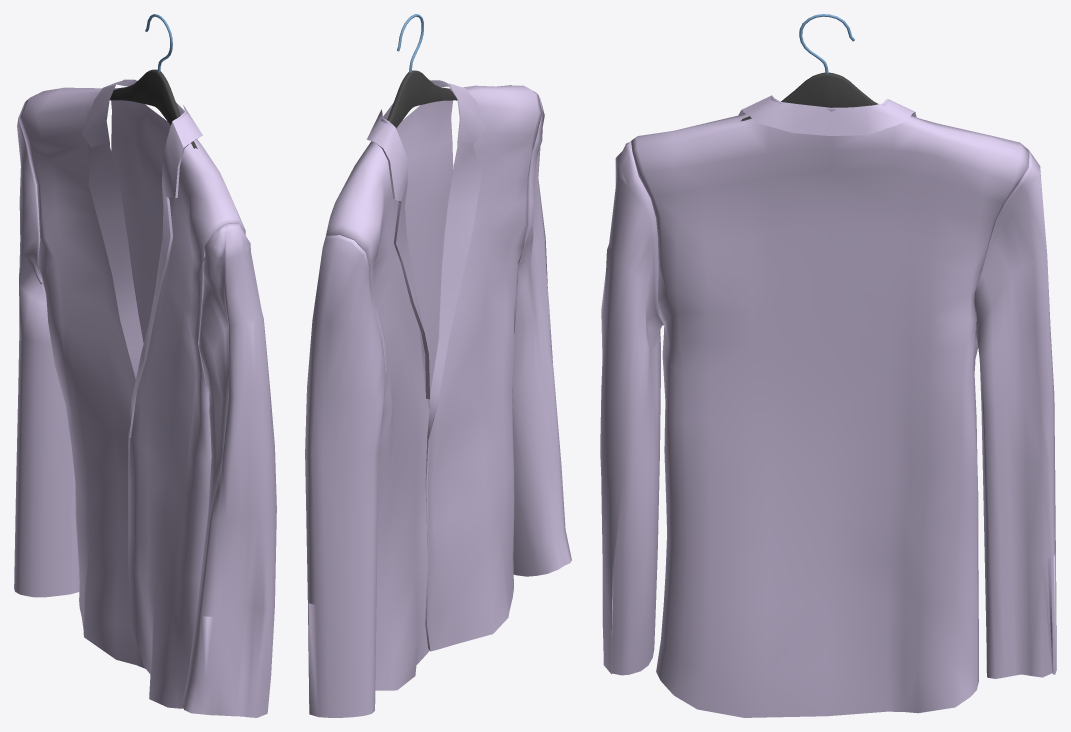
3 views of the same model, side by side, from view 1: azimuth 30°, elevation 25°; view 2: azimuth 150°, elevation 25°; view 3: azimuth 270°, elevation 25° (orthographic). The views are drawn at different scales.
Visible parts, largest first — view 1: jacket, Group007; view 2: jacket, Group007; view 3: jacket, Group007.
Boxes of the visible parts, bbox=[...] form: jacket: bbox=[14, 79, 276, 717]; Group007: bbox=[110, 14, 197, 148]; jacket: bbox=[305, 80, 571, 717]; Group007: bbox=[387, 14, 457, 128]; jacket: bbox=[600, 95, 1056, 717]; Group007: bbox=[740, 14, 878, 121].
Bounding box in the file's own units: 13.33 × 89.31 × 53.23.
